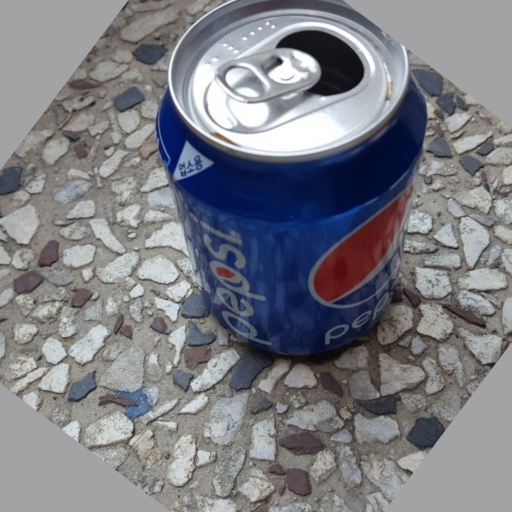Metal_0: (156, 1, 429, 366)
